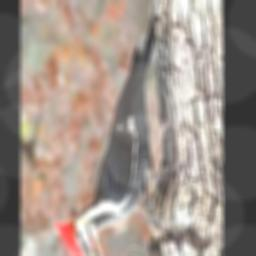Woodpecker: (55, 0, 157, 256)
